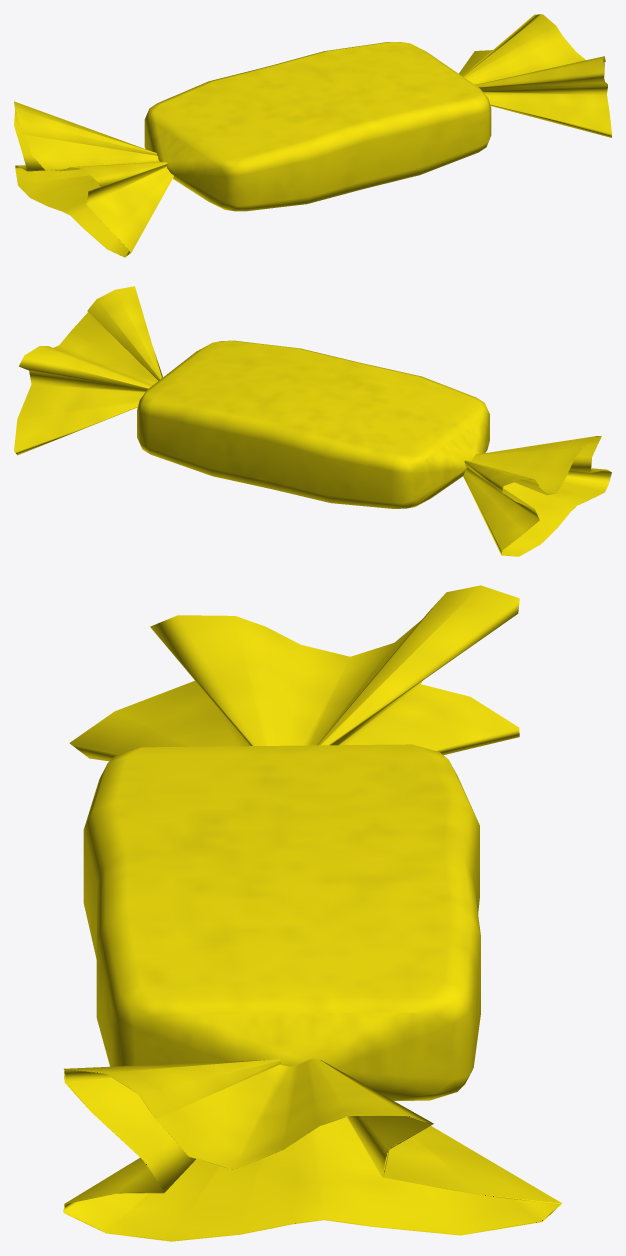
Rendered from PERMEN D.fbx.
3 renders of one model, top to bottom at view 1: azimuth 30°, elevation 25°; view 2: azimuth 150°, elevation 25°; view 3: azimuth 270°, elevation 25°, orthographic. The views are drawn at different scales.
Visible parts, largest first — view 1: Diorama.002; view 2: Diorama.002; view 3: Diorama.002.
Part boxes in pixels (box(x1,y1,x2,y2)): Diorama.002: box(14, 14, 611, 257); Diorama.002: box(14, 286, 611, 556); Diorama.002: box(63, 585, 561, 1241).
Size of the model in its own units: 190 by 78.5 by 28.9.
1 material, 1 textured.
